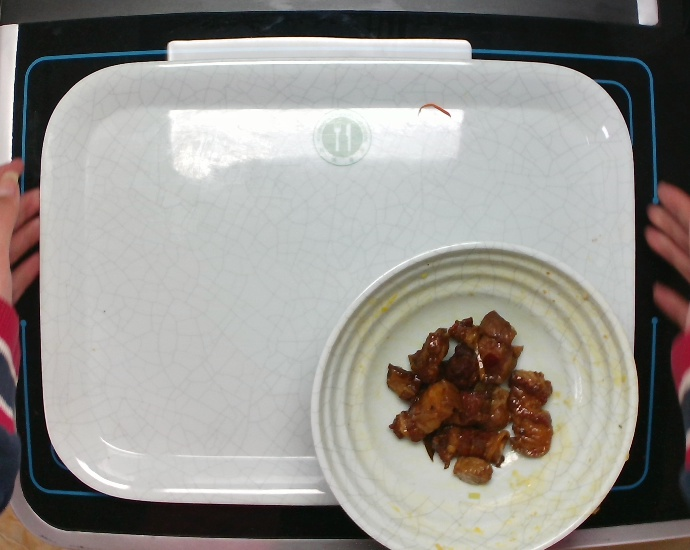JYsf-Da_Tang_Wan: (303, 237, 641, 550)
